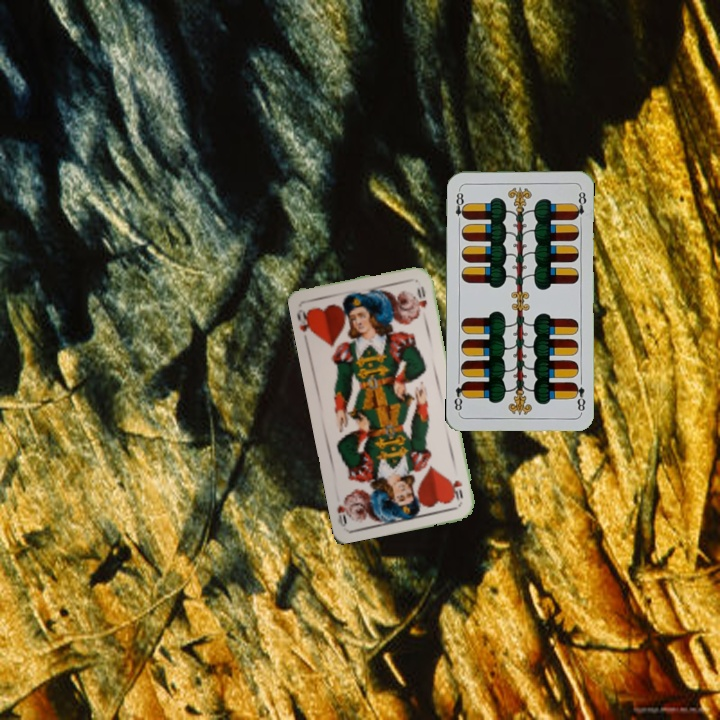E8: (451, 186, 468, 226), (570, 379, 588, 414)
HO: (293, 305, 317, 336), (449, 476, 465, 504)
